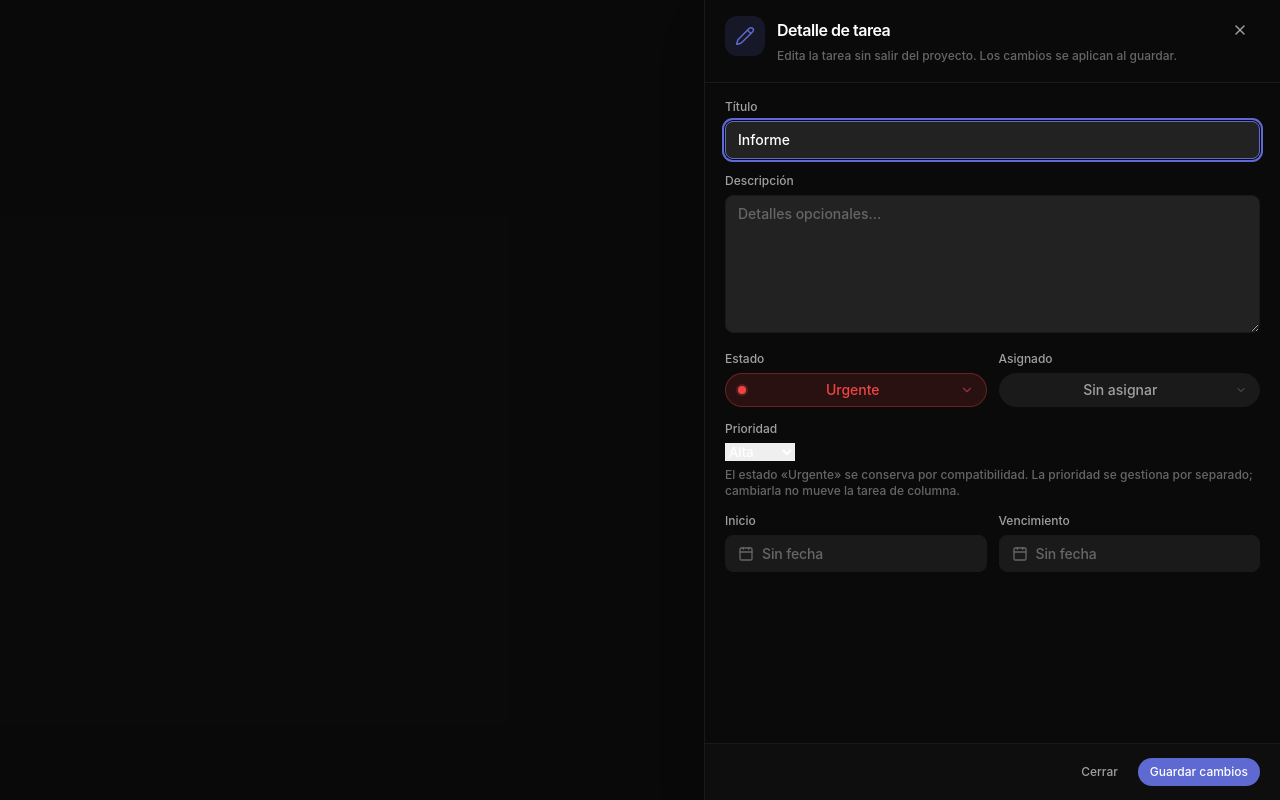
task form priority › retains the selected priority and the form when saving fails
In the text box labelled "Descripción": (992, 264) [725, 194, 1260, 332], type "Editado"
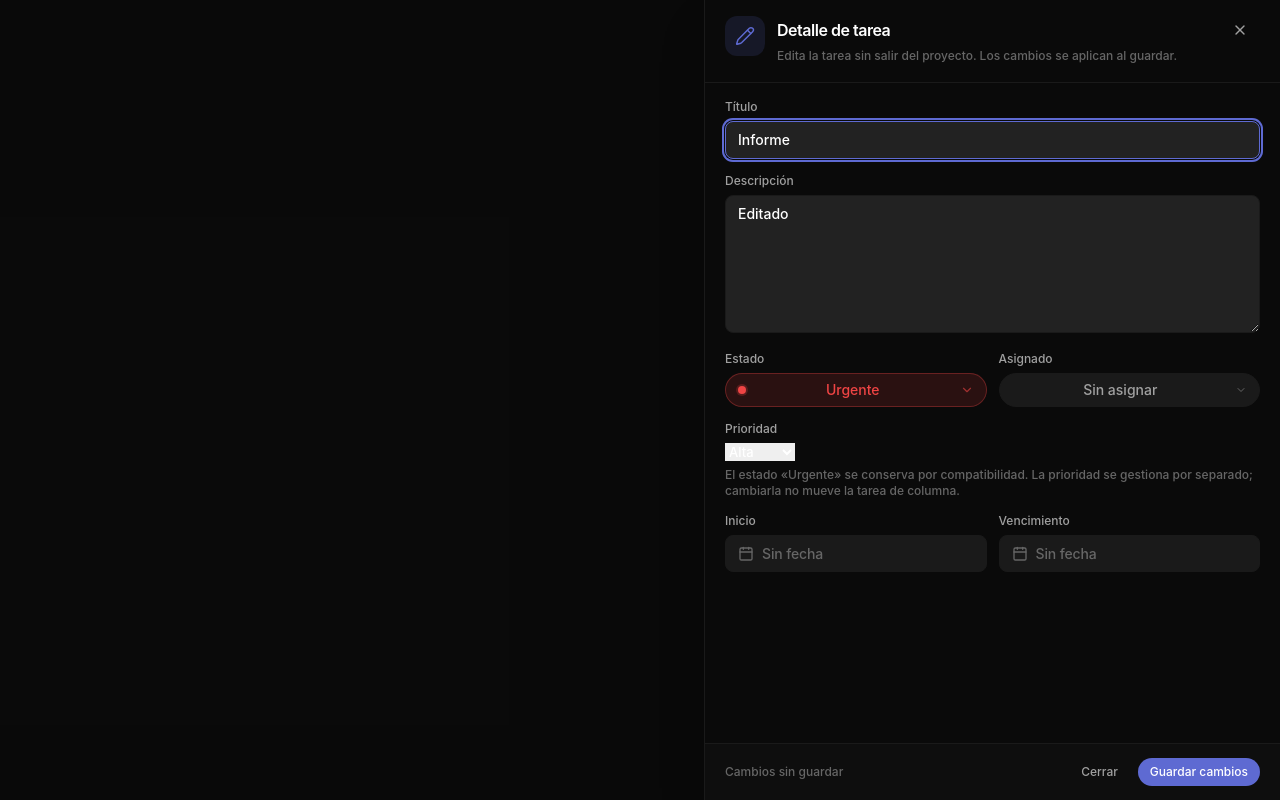
Click the button "Guardar cambios": click(1199, 772) [1138, 758, 1260, 786]
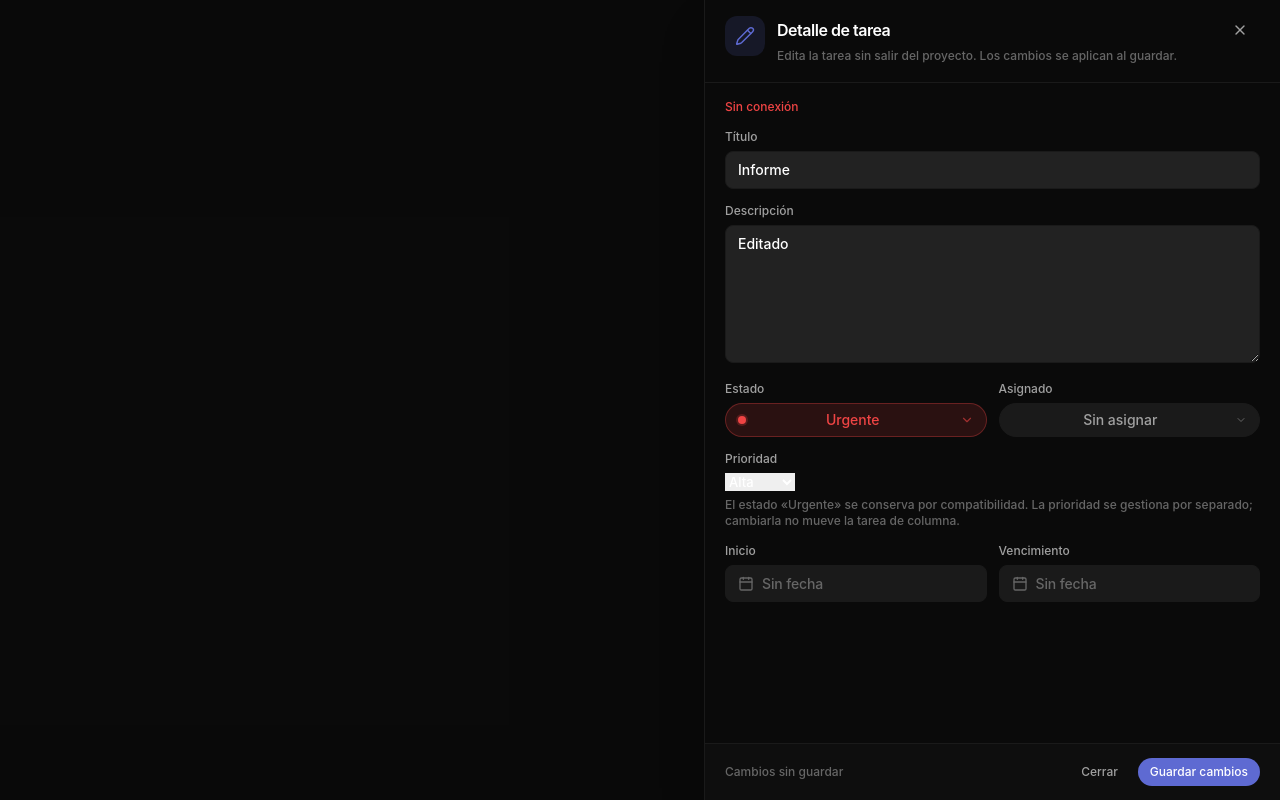
Expected: the dropdown named "Prioridad de la tarea" shows "Alta", [725, 473, 795, 491]
Expected: the text "Sin conexión" is shown, [725, 98, 799, 114]
